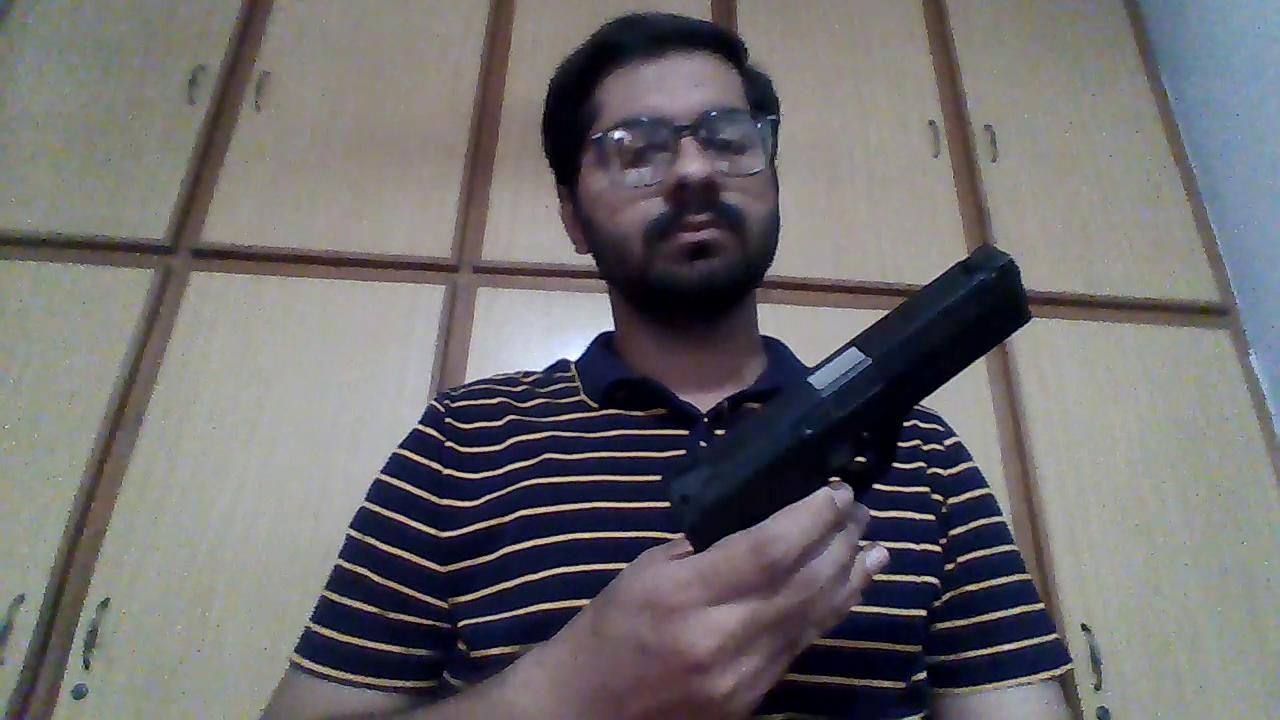criminal: (263, 10, 1079, 720)
weapon: (660, 245, 1036, 556)
